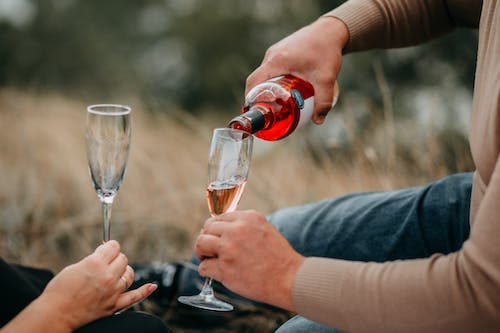alcohol: (177, 127, 255, 312), (225, 73, 340, 142)
